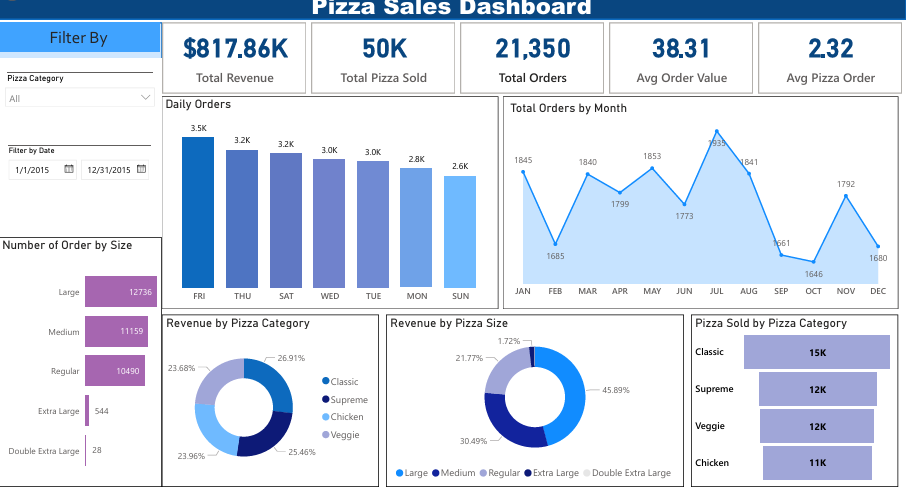

The page's visual inventory and layout, read from the dashboard file:
{"tool":"powerbi","page":{"name":"Page 1","canvas":[1280,720],"ordinal":0},"visuals":[{"type":"cardVisual","fields":{"Data":["pizza_sales.Total_Revenue","pizza_sales.Total_Pizza_Sold","pizza_sales.Total_Orders","pizza_sales.Avg_Order_Value","pizza_sales.Avg_Pizza_Order"]},"box":[227,61,1053,109],"z":0},{"type":"shape","box":[0,0,1280,61],"z":1000},{"type":"textbox","box":[405,13,469,61],"z":2000},{"type":"shape","box":[0,66,231,654],"z":3000},{"type":"shape","box":[231,170,474,299],"z":4000},{"type":"columnChart","title":"Daily Orders ","fields":{"Category":["pizza_sales.order_week_day"],"Y":["pizza_sales.Total Orders"]},"box":[231,170,474,299],"z":5000},{"type":"shape","box":[712,170,557,299],"z":6000},{"type":"areaChart","title":"Total Orders by Month","fields":{"Category":["pizza_sales.order_month"],"Y":["pizza_sales.Total Orders"]},"box":[717,176,547,286],"z":7000},{"type":"donutChart","title":"Revenue by Pizza Category","fields":{"Category":["pizza_sales.pizza_category"],"Y":["pizza_sales.Total Revenue"]},"box":[231,477,306,243],"z":8000},{"type":"donutChart","title":"Revenue by Pizza Size","fields":{"Y":["pizza_sales.Total Revenue"],"Category":["pizza_sales.pizza_size"]},"box":[547,477,420,243],"z":9000},{"type":"funnel","title":"Pizza Sold by Pizza Category","fields":{"Category":["pizza_sales.pizza_category"],"Y":["pizza_sales.Total Pizza Sold"]},"box":[977,477,292,243],"z":10000},{"type":"textbox","box":[0,66,227,41],"z":11000},{"type":"textbox","box":[0,116,231,252],"z":12000},{"type":"slicer","fields":{"Values":["pizza_sales.pizza_category"]},"box":[0,131,231,62],"z":14000},{"type":"slicer","fields":{"Values":["pizza_sales.order_date"]},"box":[2,234,227,68],"z":14500},{"type":"actionButton","box":[0,0,100,40],"z":15000},{"type":"barChart","title":"Number of Order by Size","fields":{"Category":["pizza_sales.pizza_size"],"Y":["pizza_sales.Total Orders"]},"box":[0,368,231,352],"z":16000}]}

Visuals, with their boxes in screenshot pixels (x1, y1, x2, y2):
cardVisual - pizza_sales.Total_Revenue x pizza_sales.Total_Pizza_Sold: select_region(156, 16, 905, 94)
shape: select_region(0, 0, 905, 16)
textbox: select_region(284, 0, 621, 25)
shape: select_region(0, 19, 159, 487)
shape: select_region(159, 94, 500, 309)
"Daily Orders " columnChart: select_region(159, 94, 500, 309)
shape: select_region(505, 94, 905, 309)
"Total Orders by Month" areaChart: select_region(508, 98, 902, 304)
"Revenue by Pizza Category" donutChart: select_region(159, 315, 379, 487)
"Revenue by Pizza Size" donutChart: select_region(386, 315, 688, 487)
"Pizza Sold by Pizza Category" funnel: select_region(695, 315, 905, 487)
textbox: select_region(0, 19, 156, 49)
textbox: select_region(0, 55, 159, 236)
slicer - pizza_sales.pizza_category: select_region(0, 66, 159, 110)
slicer - pizza_sales.order_date: select_region(0, 140, 158, 189)
"Number of Order by Size" barChart: select_region(0, 236, 159, 487)
